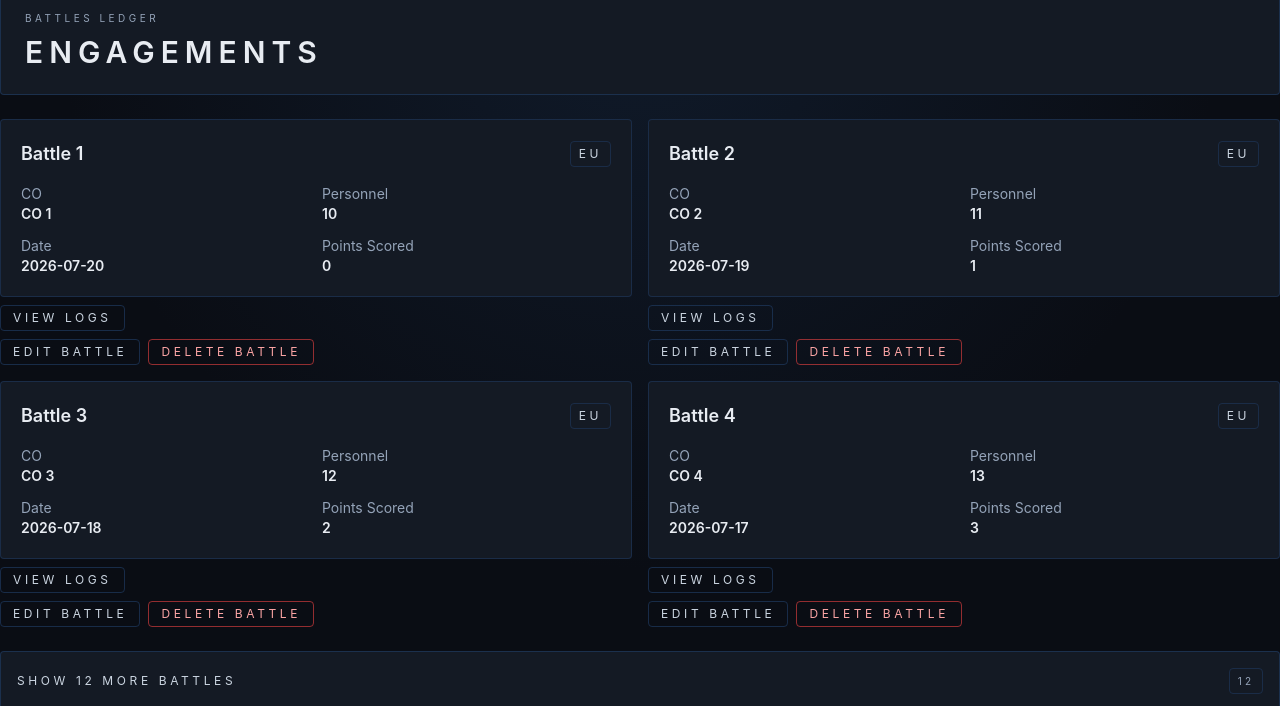
BattlesPage › scrolls to the battle editor and preloads form values when clicking Edit Battle
The width and height of the screenshot is (1280, 706).
What coordinates should you click on to do the following:
click the button "Edit Battle" below "2026-07-20"
I would click on:
 (70, 352)
Its box is left=0, top=339, right=140, bottom=365.
(page scrolled)
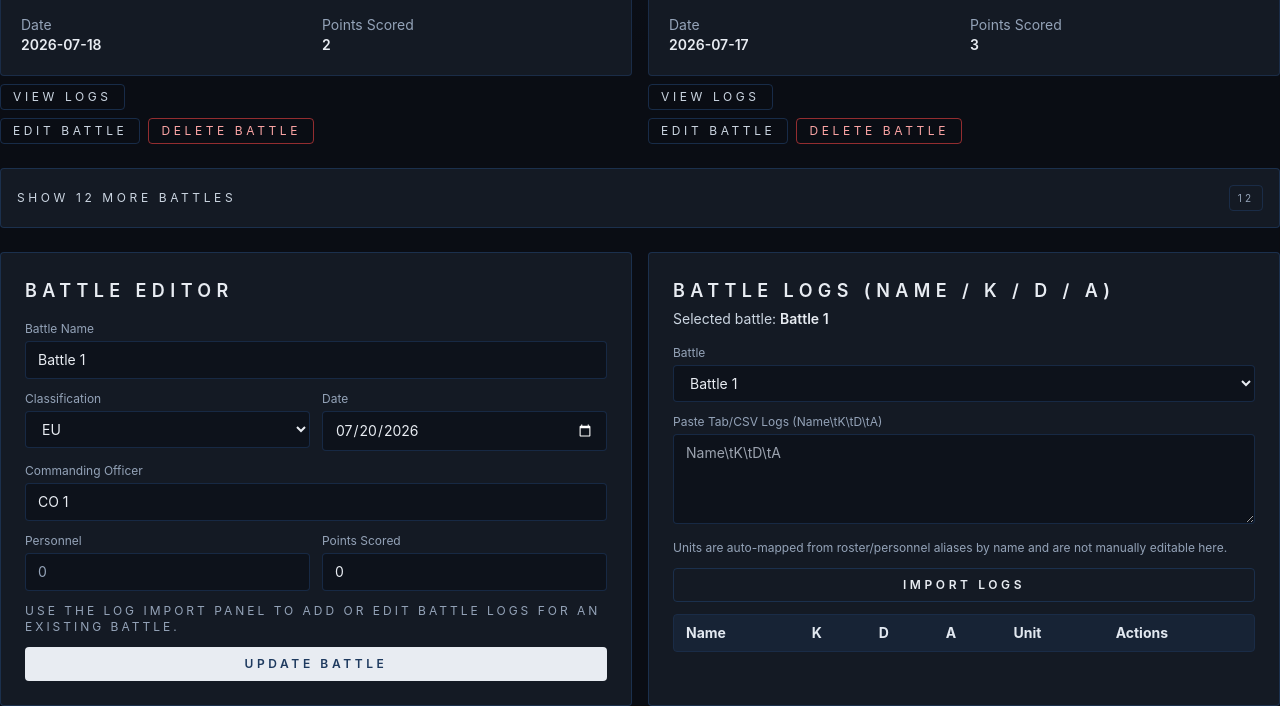
Now the field labelled "Battle Name" holds "Battle 1", box left=25, top=341, right=607, bottom=379
